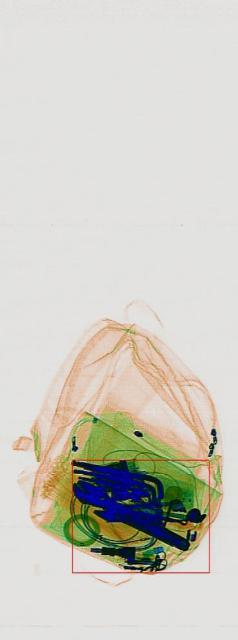Wrench: (70, 467, 188, 561)
